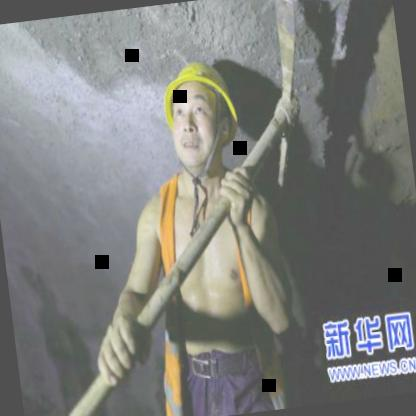helmet: (148, 44, 247, 182)
